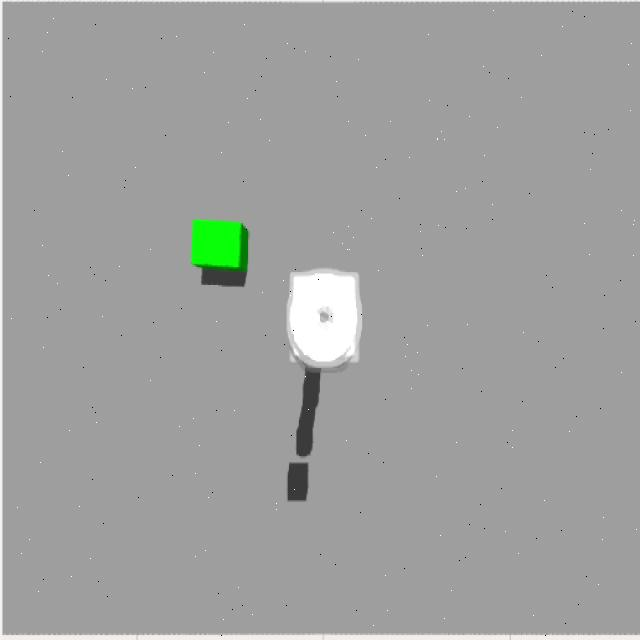box: (191, 221, 248, 283)
